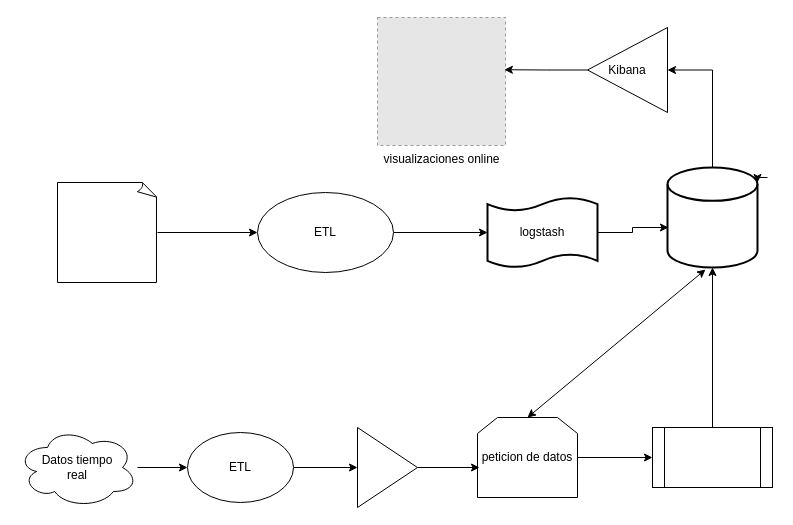
Image size: 793x525. Some labels were removed from this diagram. Grey dashed boxes stand in for pictures. The shapes that lost their labels are listed below. From the top down, each one's centre as x and y in pixels, then its label:
point 107,232: Datos históricos
point 712,217: Elasticsearch (base de datos)
point 387,467: A. NIFI
point 712,457: Prediciones
